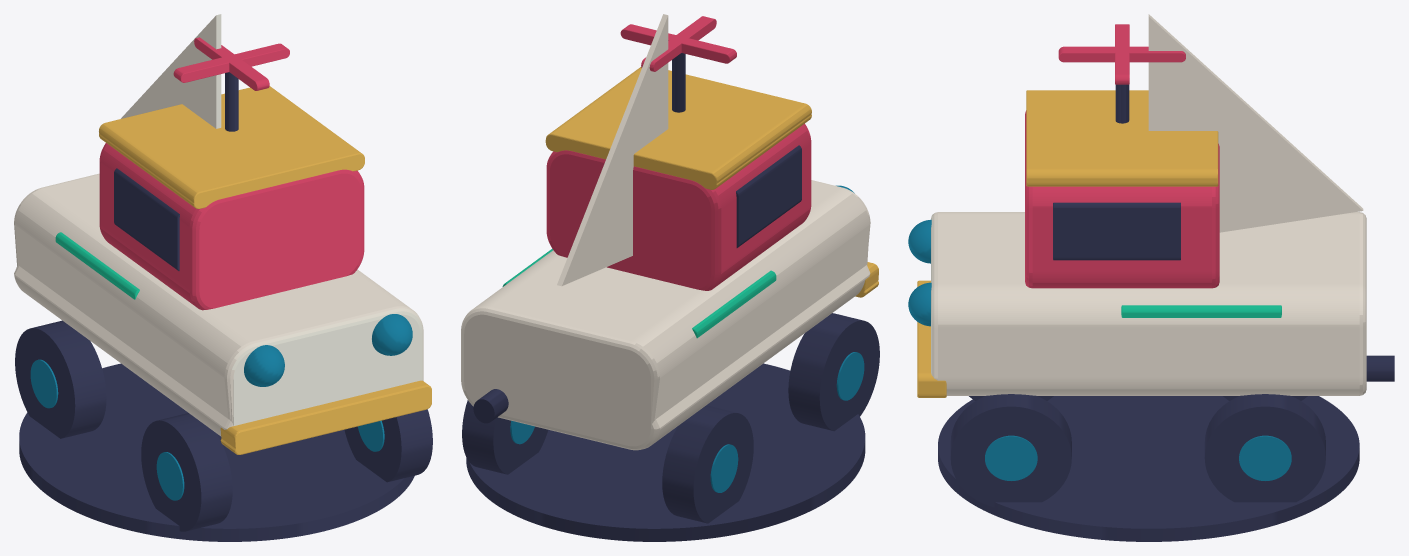
File: 1172_海底两万里_被困的诺第留斯号.glb
The picture shows the model from 3 angles, left to right: view 1: azimuth 30°, elevation 25°; view 2: azimuth 150°, elevation 25°; view 3: azimuth 270°, elevation 25°; orthographic projection.
Parts seen in each view (by area): view 1: card_1172; view 2: card_1172; view 3: card_1172.
Boxes of the visible parts, x1,y1,x2,y2 form: card_1172: [14, 14, 432, 541]; card_1172: [461, 14, 879, 541]; card_1172: [908, 14, 1394, 541].
Bounding box in the file's own units: 0.8078 × 1 × 0.9944.
